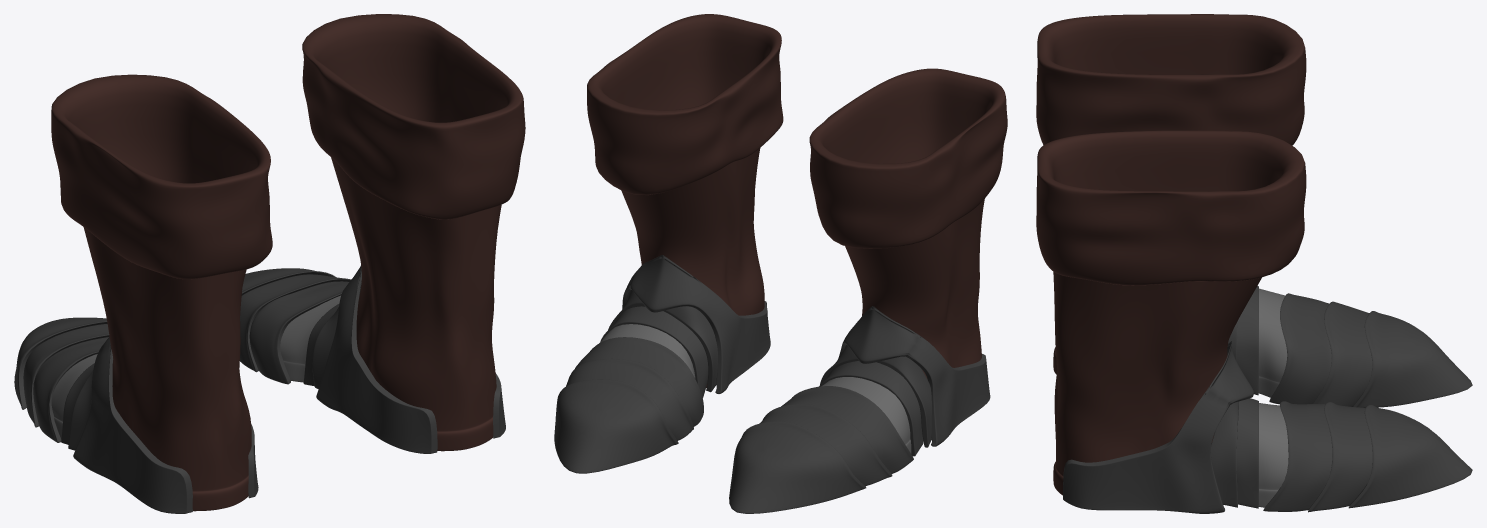
The model's file is Boots_minimal_Detail.fbx.
The picture shows the model from 3 angles, left to right: view 1: azimuth 30°, elevation 25°; view 2: azimuth 150°, elevation 25°; view 3: azimuth 270°, elevation 25°; orthographic projection. The views are drawn at different scales.
Visible parts, largest first — view 1: Boots.001; view 2: Boots.001; view 3: Boots.001.
Part boxes in pixels (<box>): Boots.001: <box>14,14,525,513</box>; Boots.001: <box>554,14,1007,513</box>; Boots.001: <box>1036,14,1472,513</box>.
Bounding box in the file's own units: 2103 × 1756 × 2132.
